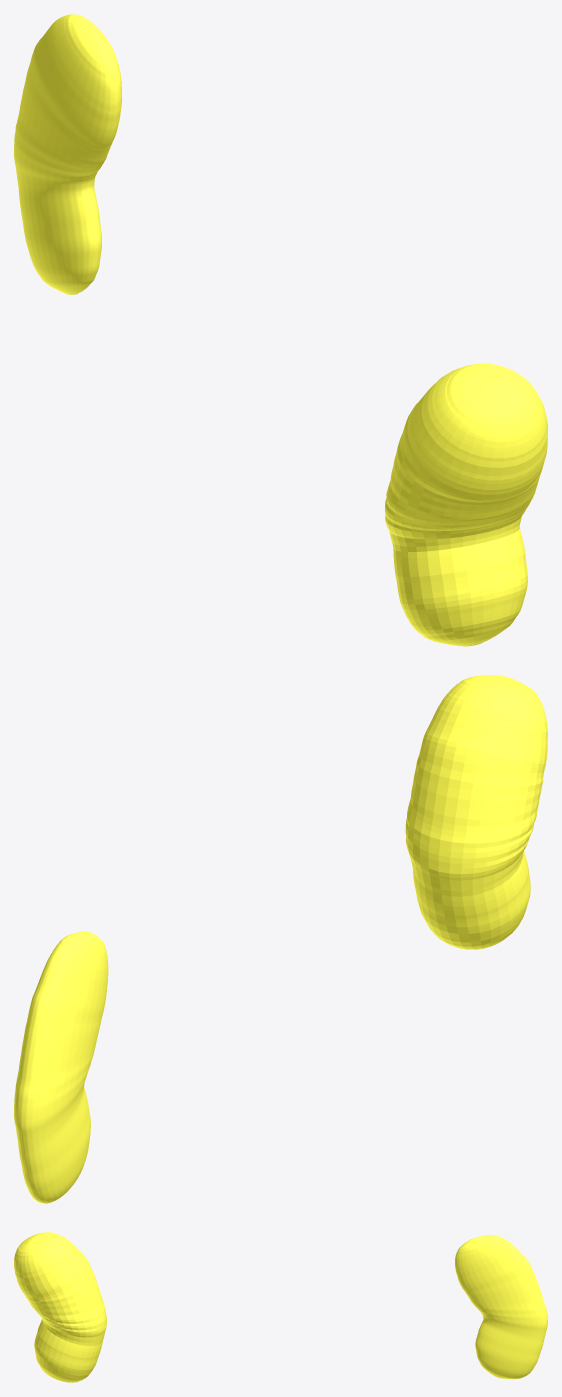
The model's file is MEMEL MEMEN.glb.
3 views of the same model, one above another, from view 1: azimuth 30°, elevation 25°; view 2: azimuth 150°, elevation 25°; view 3: azimuth 270°, elevation 25° (orthographic). The views are drawn at different scales.
Visible parts, largest first — view 1: 球, 球.001; view 2: 球, 球.001; view 3: 球, 球.001.
Boxes of the visible parts, x1,y1,x2,y2 form: 球: (385, 363, 547, 646); 球.001: (14, 14, 121, 294); 球: (405, 675, 547, 949); 球.001: (14, 931, 108, 1203); 球: (14, 1232, 106, 1382); 球.001: (455, 1235, 547, 1379).
Bounding box in the file's own units: 0.8146 × 1.82 × 5.76.
